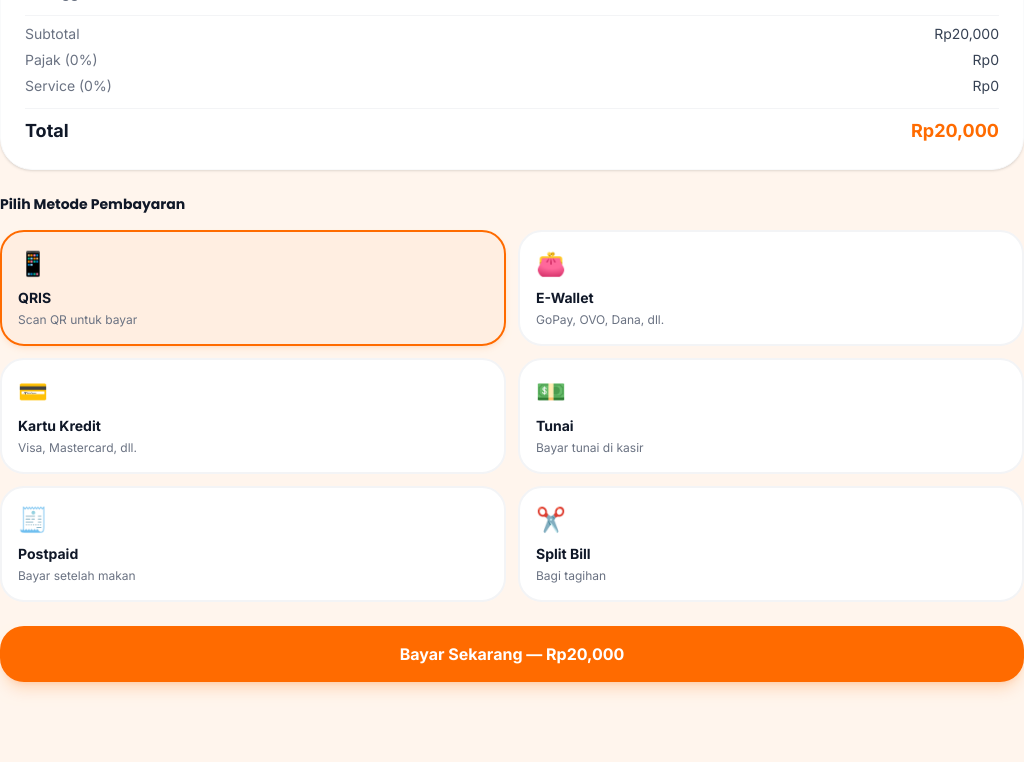
Scenario: PaymentPage — 409 PRICE_CHANGED (DR-11) › shows the Indonesian confirmation and does not retry automatically
(page scrolled)
Click the button "Bayar Sekarang — Rp20,000" at (512, 654), box [0, 626, 1023, 682]
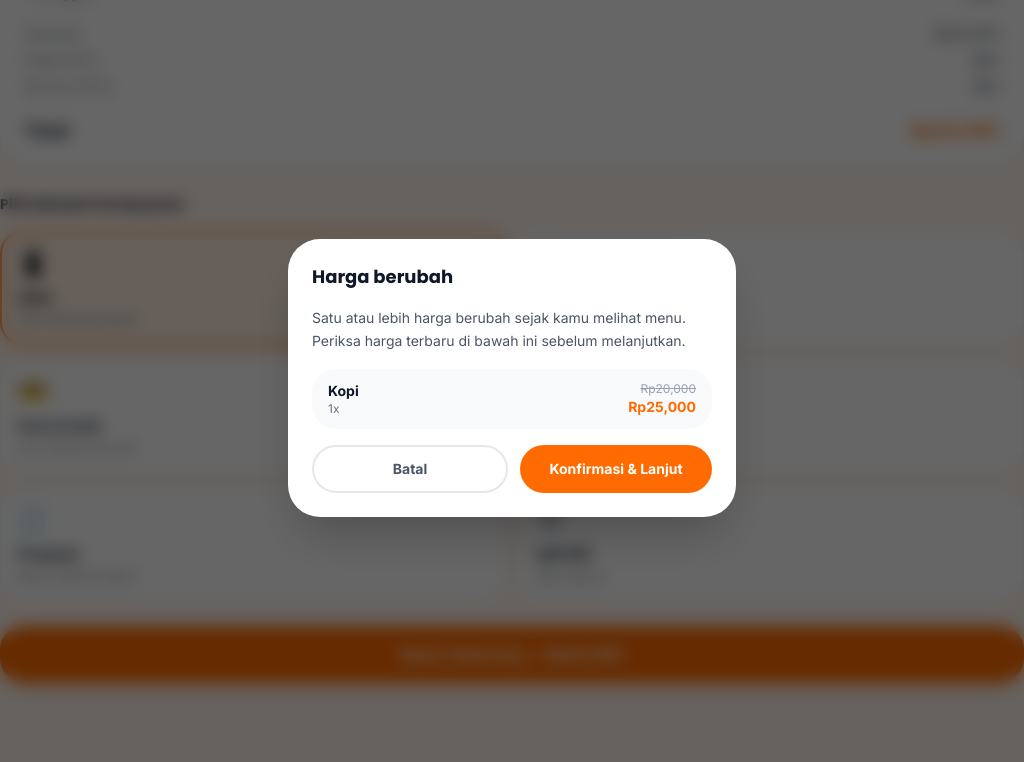
Now the heading "Harga berubah" is shown, box [312, 264, 453, 289]
